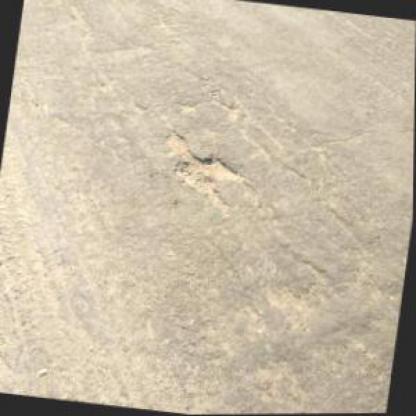pothole: (170, 150, 250, 198), (161, 129, 191, 151)
